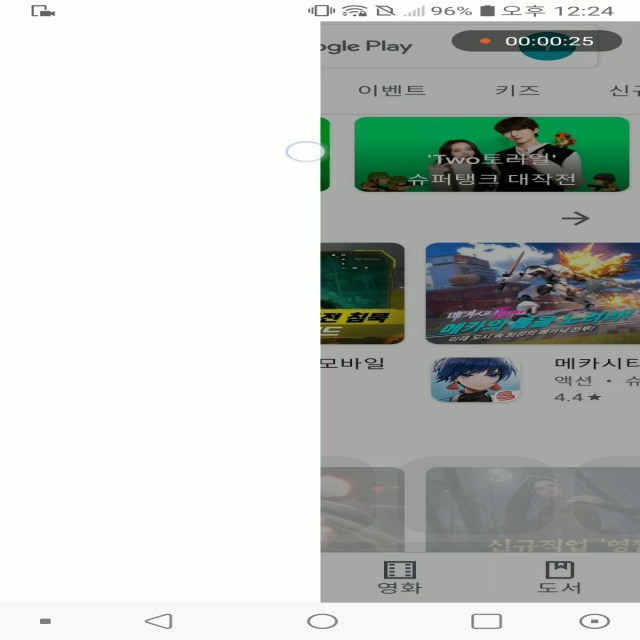Cursor: (282, 141, 327, 164)
